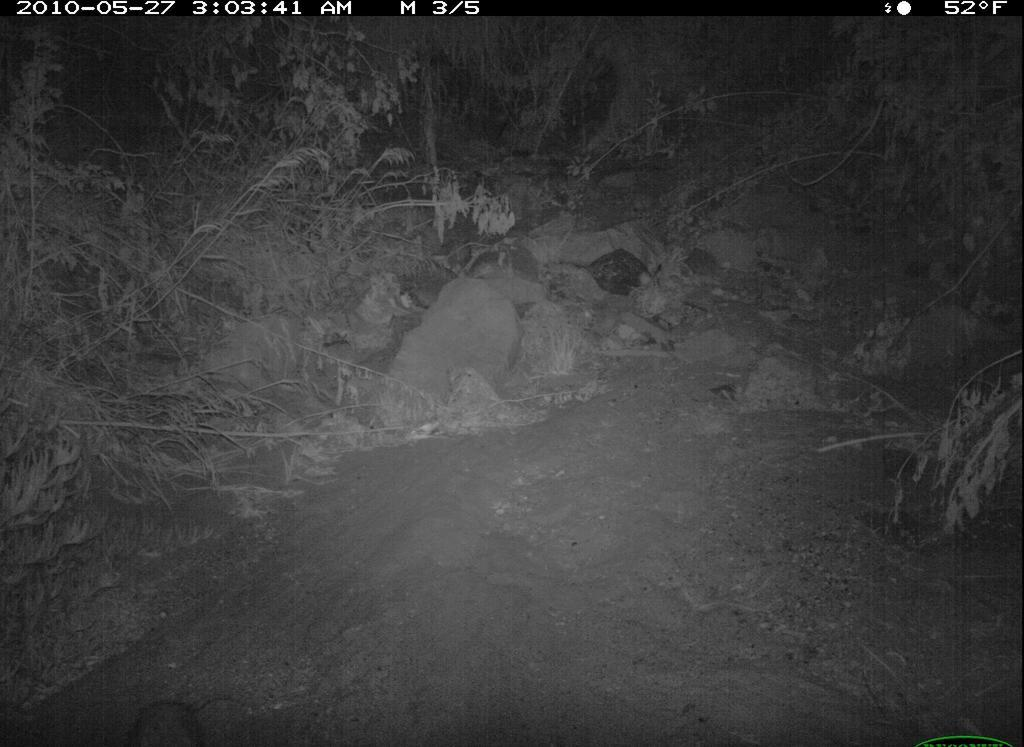opossum: (118, 688, 230, 742)
